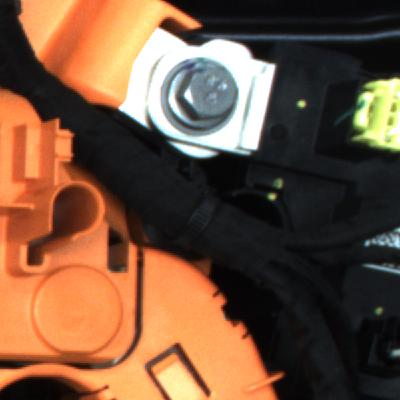nut_b: (153, 56, 247, 132)
